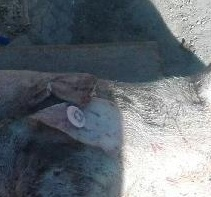text: (52, 96, 98, 139)
